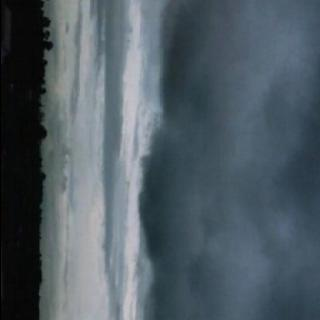Stratocumulus: (91, 0, 320, 320)
